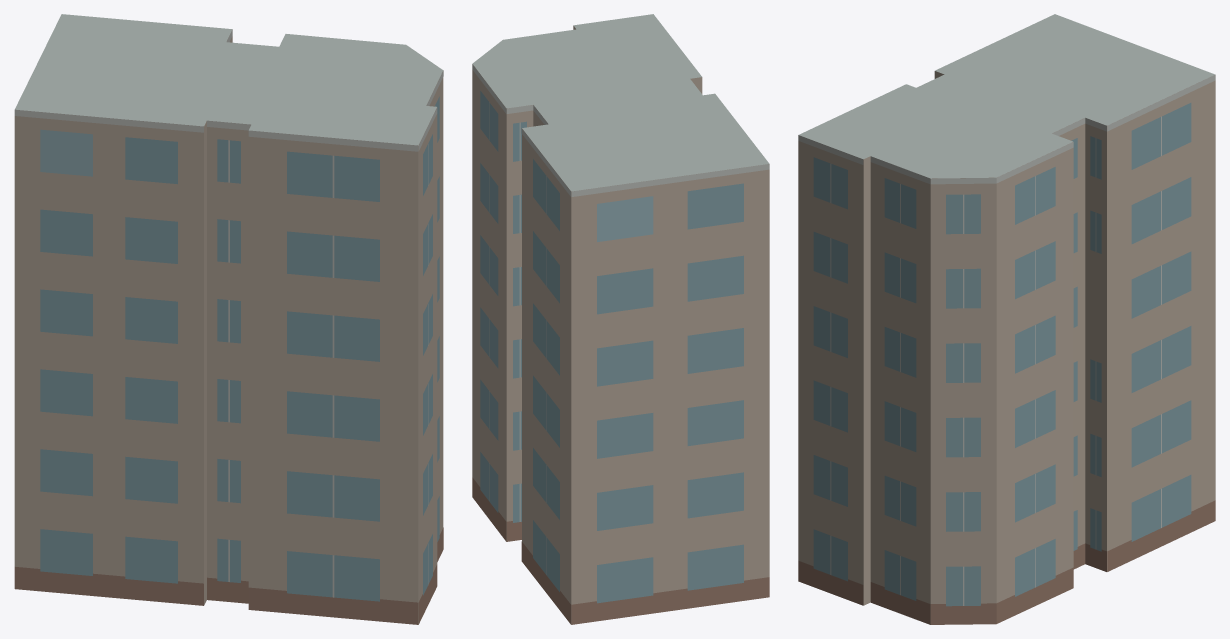
Rendered from survey-upis-32712085.glb.
3 renders of one model, left to right at view 1: azimuth 30°, elevation 25°; view 2: azimuth 150°, elevation 25°; view 3: azimuth 270°, elevation 25°, orthographic. The views are drawn at different scales.
Visible parts, largest first — view 1: survey-upis-32712085.tmp; view 2: survey-upis-32712085.tmp; view 3: survey-upis-32712085.tmp.
Boxes of the visible parts, x1=… form: survey-upis-32712085.tmp: x1=14, y1=14, x2=443, y2=624; survey-upis-32712085.tmp: x1=472, y1=14, x2=769, y2=624; survey-upis-32712085.tmp: x1=798, y1=14, x2=1215, y2=624.
Size of the model in its own units: 14.71 by 18.6 by 15.76.
